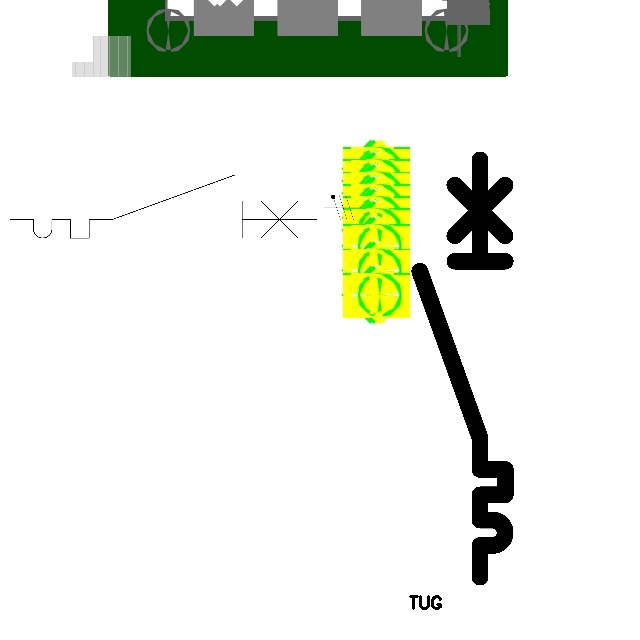interruptor_termomagnetico: (409, 149, 516, 588), (2, 167, 324, 246)
